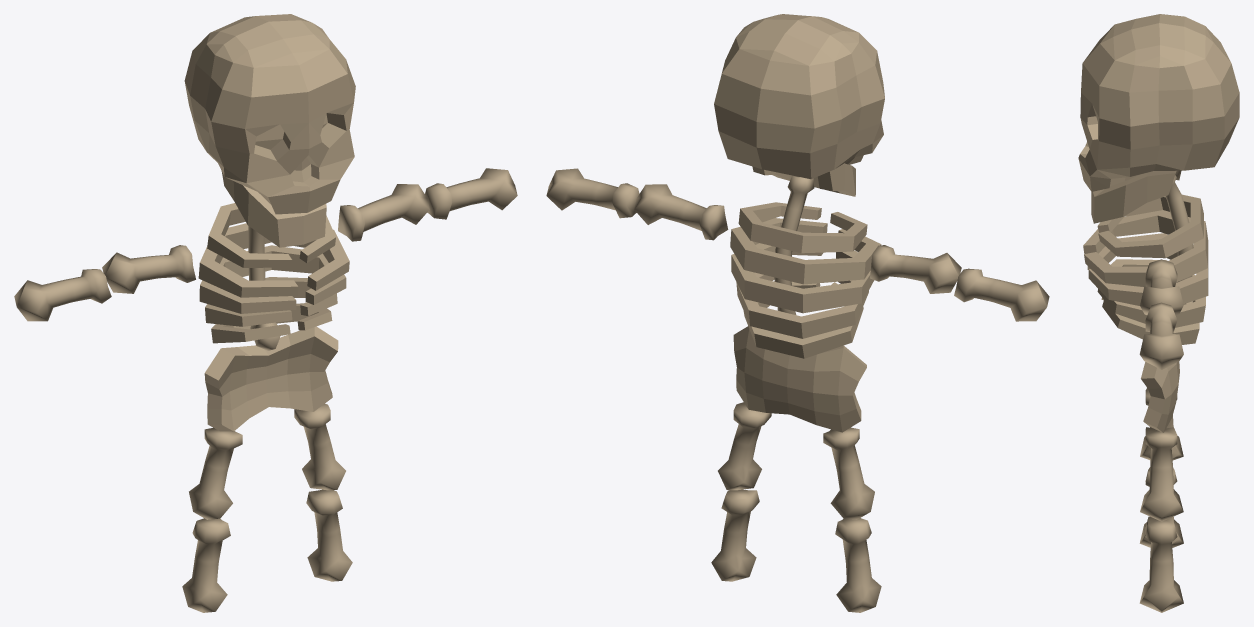
File: skeleton.glb
3 renders of one model, left to right at view 1: azimuth 30°, elevation 25°; view 2: azimuth 150°, elevation 25°; view 3: azimuth 270°, elevation 25°, orthographic. The views are drawn at different scales.
Visible parts, largest first — view 1: Cylinder.001; view 2: Cylinder.001; view 3: Cylinder.001.
Part boxes in pixels (box(x1,y1,x2,y2)): Cylinder.001: box(14, 14, 517, 612); Cylinder.001: box(546, 14, 1049, 612); Cylinder.001: box(1078, 14, 1239, 612).
Bounding box in the file's own units: 1.81 × 2 × 0.5223.
